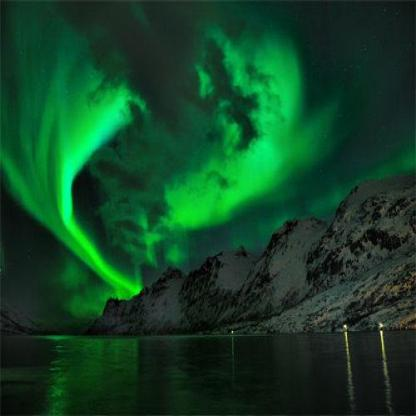other: (160, 73, 310, 216), (35, 108, 145, 295), (377, 318, 392, 358), (338, 311, 356, 340)
